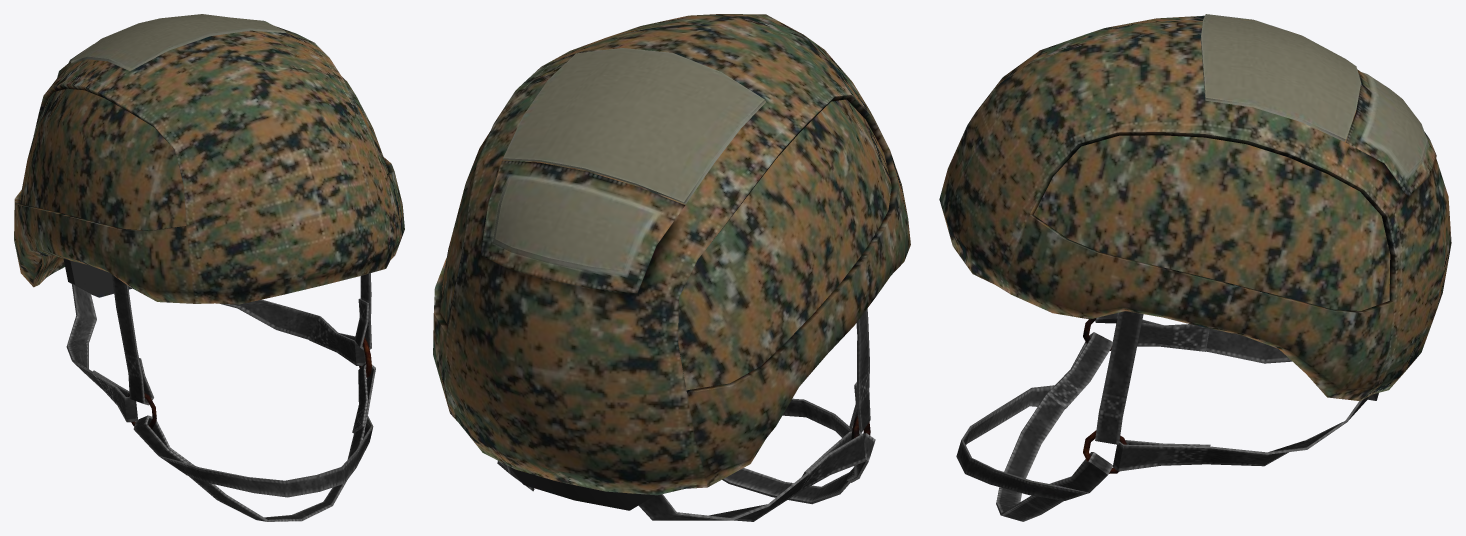
Rendered from Helmet_MICH.fbx.
3 renders of one model, left to right at view 1: azimuth 30°, elevation 25°; view 2: azimuth 150°, elevation 25°; view 3: azimuth 270°, elevation 25°, orthographic. The views are drawn at different scales.
Parts seen in each view (by area): view 1: GunMesh; view 2: GunMesh; view 3: GunMesh.
Part boxes in pixels (x1,y1,x2,y2): GunMesh: (14,14,404,521); GunMesh: (433,14,910,521); GunMesh: (939,14,1451,521).
Bounding box in the file's own units: 0.2086 × 0.28 × 0.2756.
Materials: 1 (1 with a texture image).
